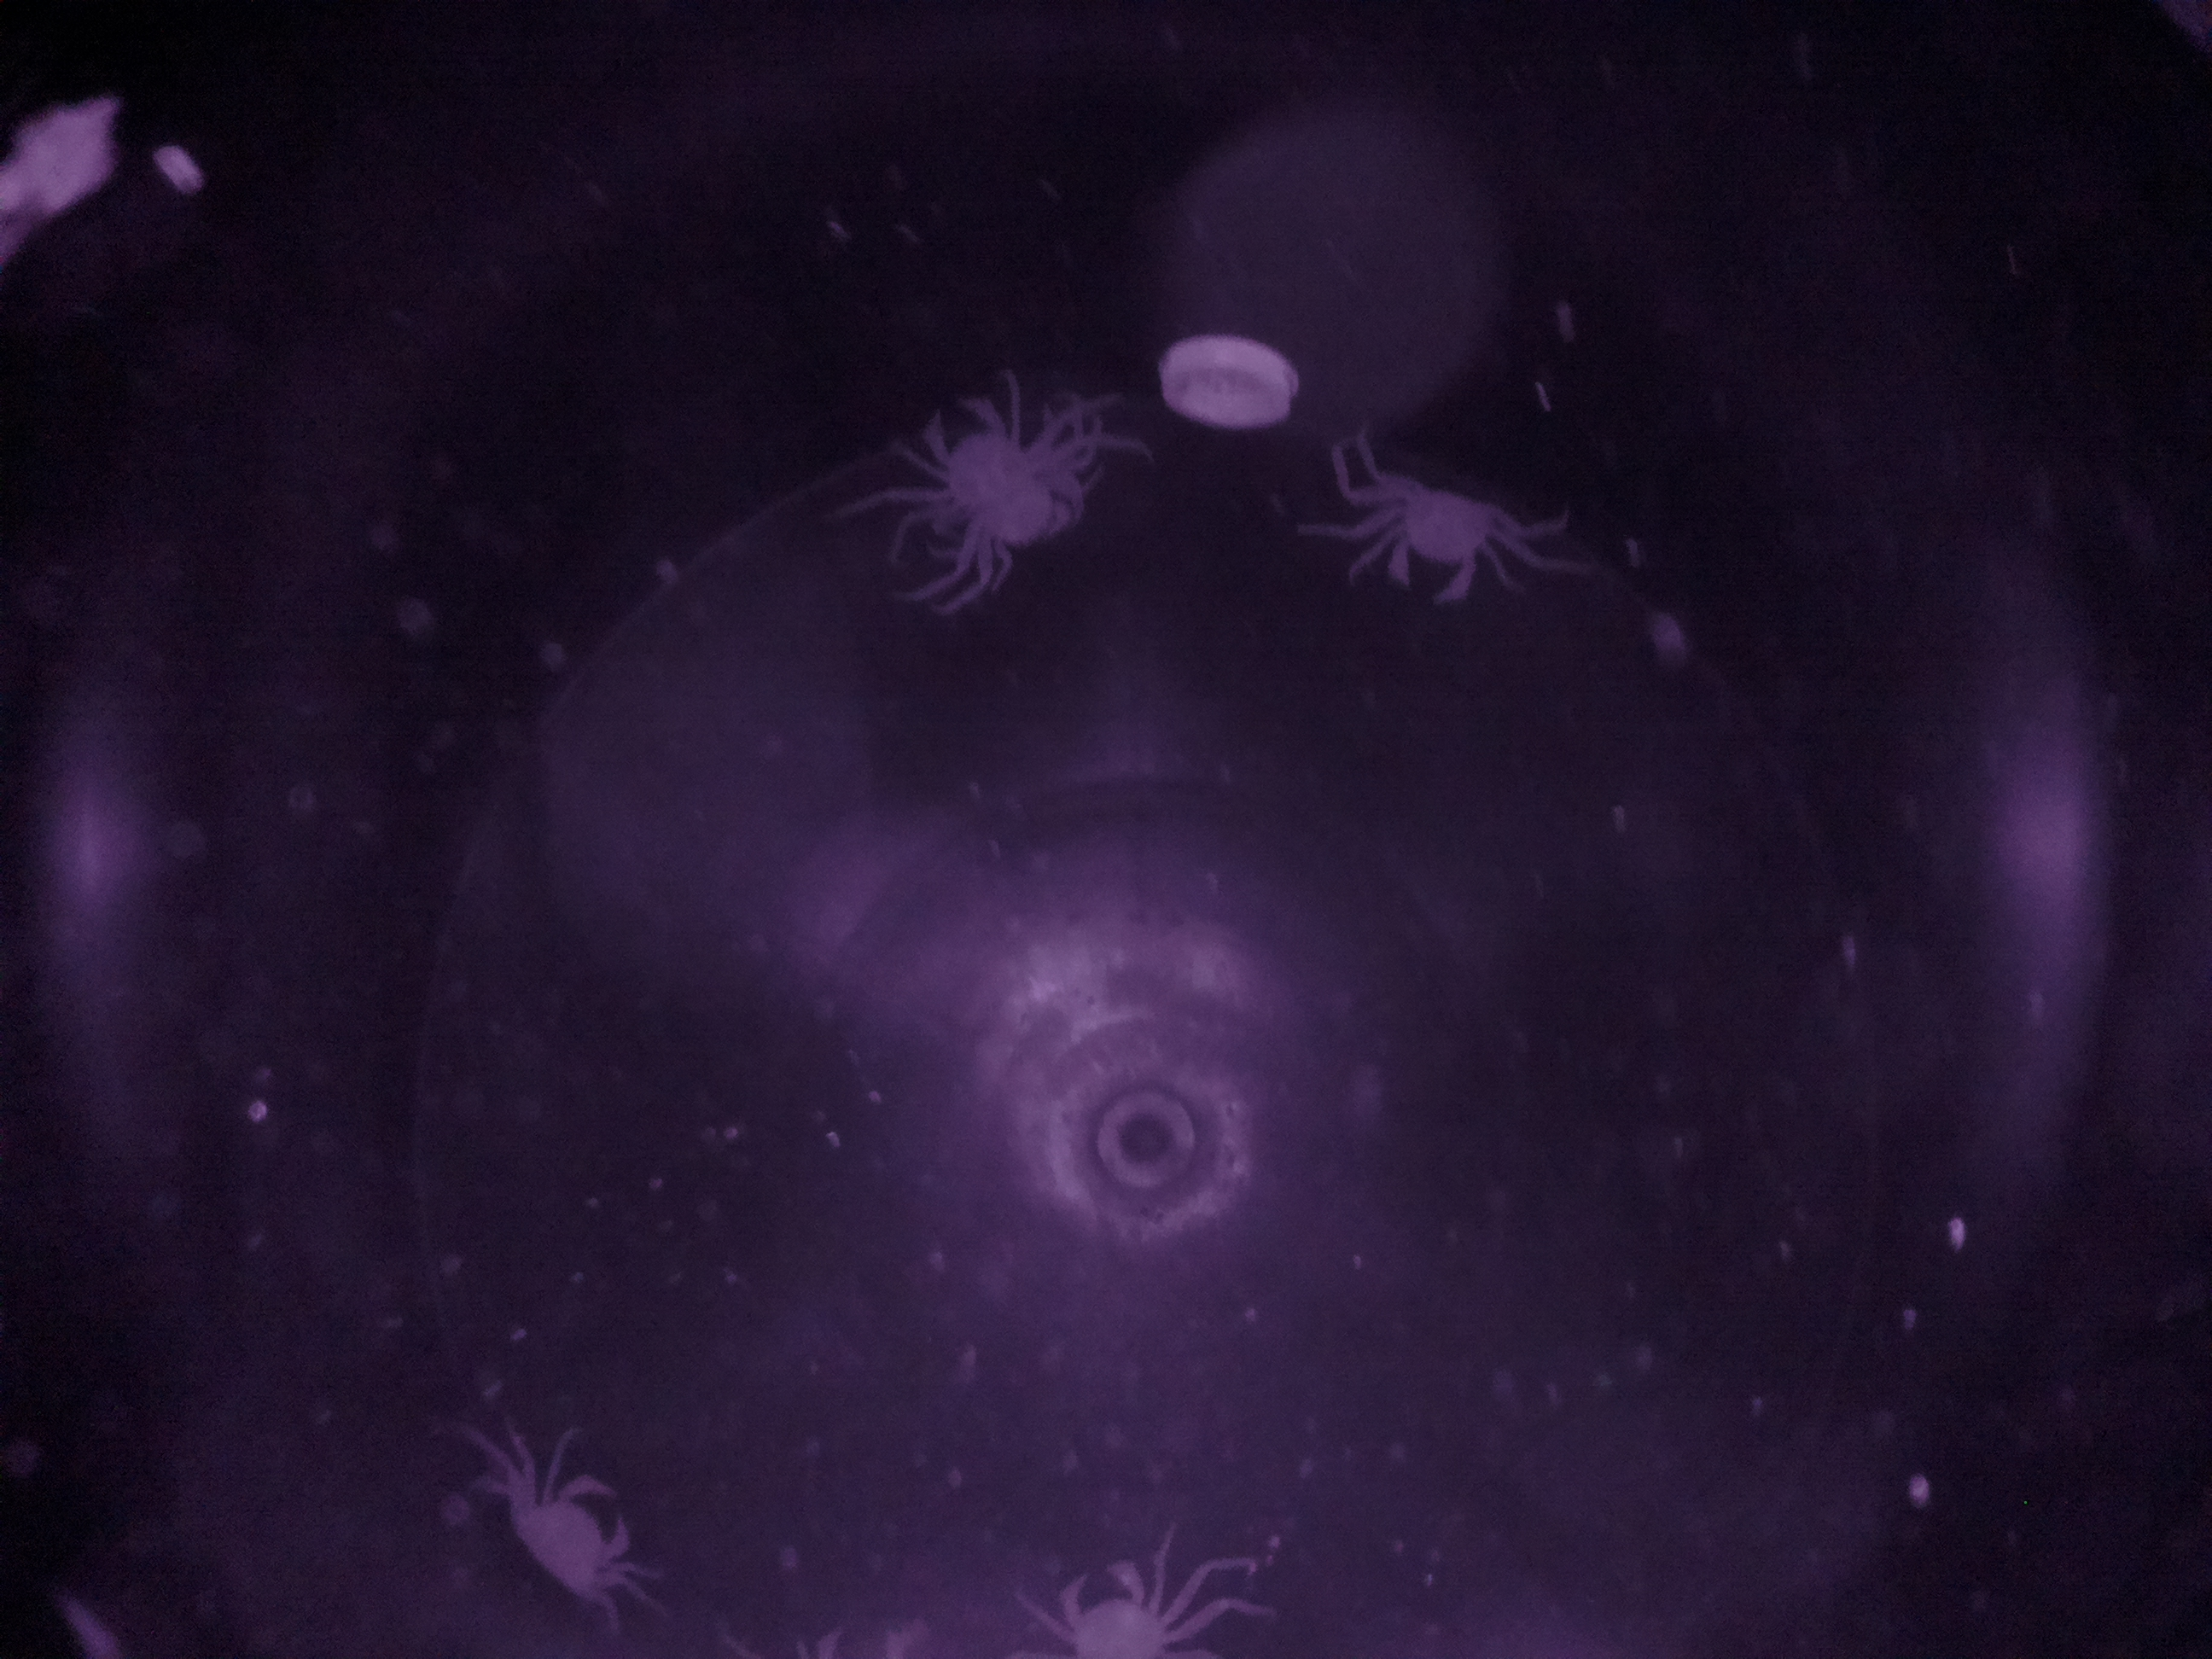Crab: (1336, 448, 1534, 620), (493, 1441, 651, 1638), (1033, 1530, 1226, 1659)
